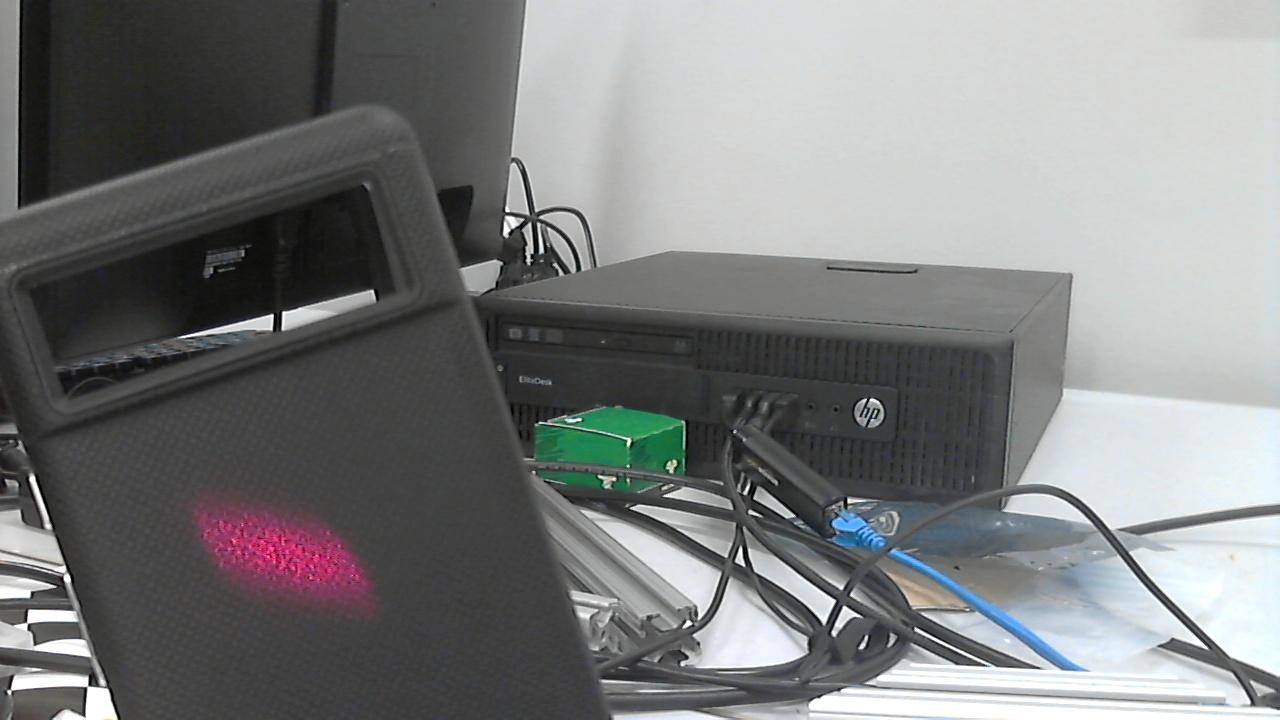Object protective phone case - Material - plastic - pdfname asdfeafgta: (158, 473, 393, 620)
